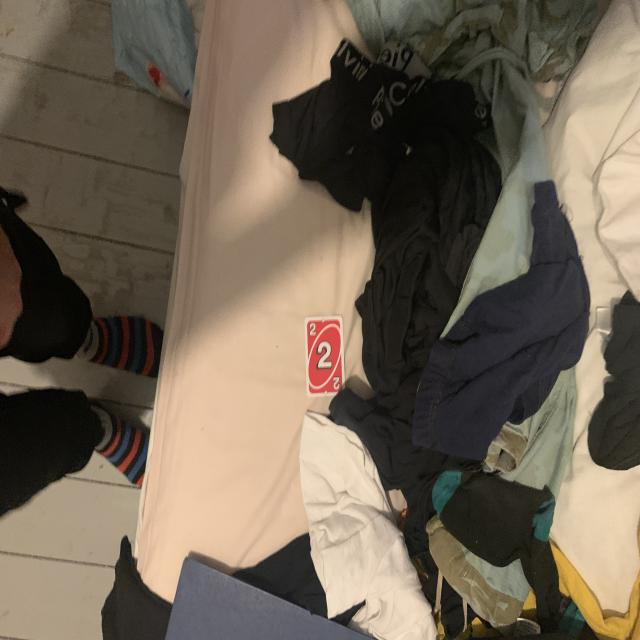lred-2: (306, 320, 319, 341)
